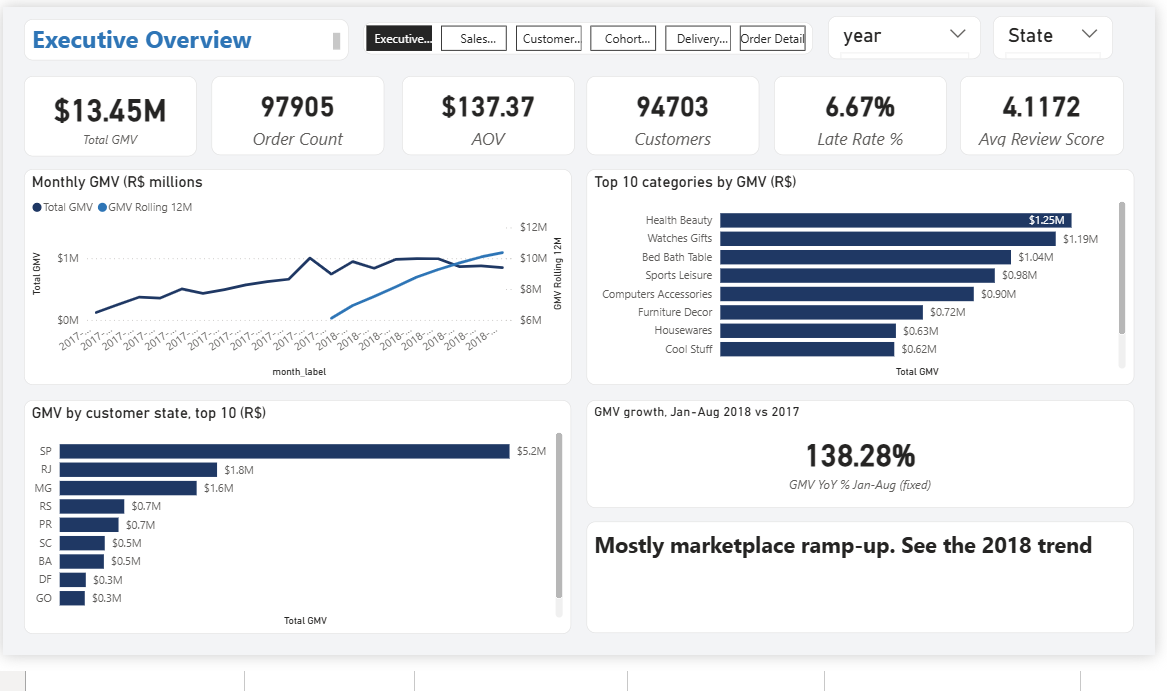

The dashboard page shown, as its layout file describes it:
{"tool":"powerbi","page":{"name":"Executive Overview","canvas":[1280,720],"ordinal":0},"visuals":[{"type":"textbox","box":[24,12.7,360.6,46],"z":0},{"type":"card","fields":{"Values":["_Measures.Total GMV"]},"box":[24,76,192,89],"z":1000},{"type":"card","fields":{"Values":["_Measures.Order Count"]},"box":[232,76,192,88],"z":2000},{"type":"card","fields":{"Values":["_Measures.AOV"]},"box":[444,76,192,88],"z":3000},{"type":"card","fields":{"Values":["_Measures.Customers"]},"box":[648,76,192,88],"z":4000},{"type":"card","fields":{"Values":["_Measures.Late Rate %"]},"box":[856,76,192,88],"z":5000},{"type":"card","fields":{"Values":["_Measures.Avg Review Score"]},"box":[1064,76,182,88],"z":6000},{"type":"card","title":"GMV growth, Jan-Aug 2018 vs 2017","fields":{"Values":["_Measures.GMV YoY % Jan-Aug (fixed)"]},"box":[648,436,608.5,120],"z":7000},{"type":"textbox","box":[648,572,608,124],"z":8000},{"type":"lineChart","title":"Monthly GMV (R$ millions","fields":{"Category":["Date.month_label"],"Y":["_Measures.Total GMV"],"Y2":["_Measures.GMV Rolling 12M"]},"box":[24,180,608.5,240],"z":9000},{"type":"barChart","title":"Top 10 categories by GMV (R$)","fields":{"Category":["Product.category_display_name"],"Y":["_Measures.Total GMV"]},"box":[648,180.3,608.5,240],"z":10000},{"type":"barChart","title":"GMV by customer state, top 10 (R$)","fields":{"Category":["Customer.customer_state"],"Y":["_Measures.Total GMV"]},"box":[24,436,608,260],"z":11000},{"type":"slicer","fields":{"Values":["Date.year"]},"box":[916,10,170,48],"z":12000},{"type":"slicer","fields":{"Values":["Customer.customer_state"]},"box":[1100,10,133,48],"z":13000},{"type":"pageNavigator","box":[400,16,500,36],"z":14000}]}

Visuals, with their boxes on the page's 1280x720 design canvas (x1, y1, x2, y2). These are canvas units, not pixel positions in the 1167x691 screenshot, which may show the page scaled, cropped or inside an application window:
textbox: (left=24, top=13, right=385, bottom=59)
card - _Measures.Total GMV: (left=24, top=76, right=216, bottom=165)
card - _Measures.Order Count: (left=232, top=76, right=424, bottom=164)
card - _Measures.AOV: (left=444, top=76, right=636, bottom=164)
card - _Measures.Customers: (left=648, top=76, right=840, bottom=164)
card - _Measures.Late Rate %: (left=856, top=76, right=1048, bottom=164)
card - _Measures.Avg Review Score: (left=1064, top=76, right=1246, bottom=164)
"GMV growth, Jan-Aug 2018 vs 2017" card: (left=648, top=436, right=1256, bottom=556)
textbox: (left=648, top=572, right=1256, bottom=696)
"Monthly GMV (R$ millions" lineChart: (left=24, top=180, right=632, bottom=420)
"Top 10 categories by GMV (R$)" barChart: (left=648, top=180, right=1256, bottom=420)
"GMV by customer state, top 10 (R$)" barChart: (left=24, top=436, right=632, bottom=696)
slicer - Date.year: (left=916, top=10, right=1086, bottom=58)
slicer - Customer.customer_state: (left=1100, top=10, right=1233, bottom=58)
pageNavigator: (left=400, top=16, right=900, bottom=52)
